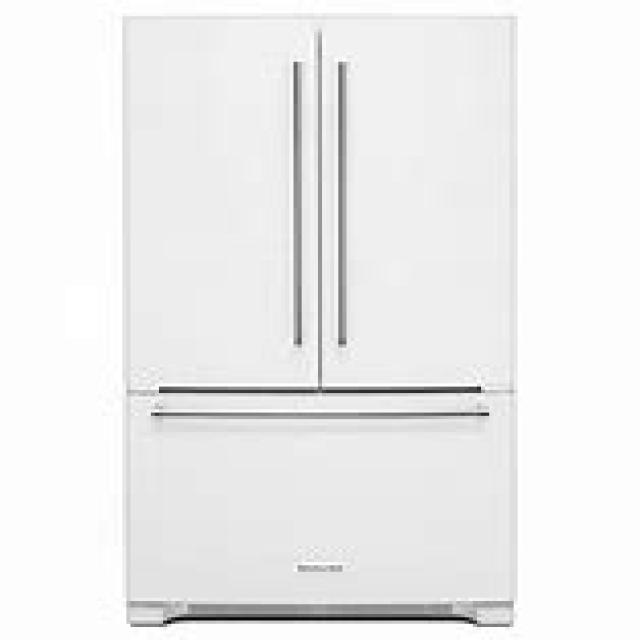fridge: (118, 10, 518, 627)
